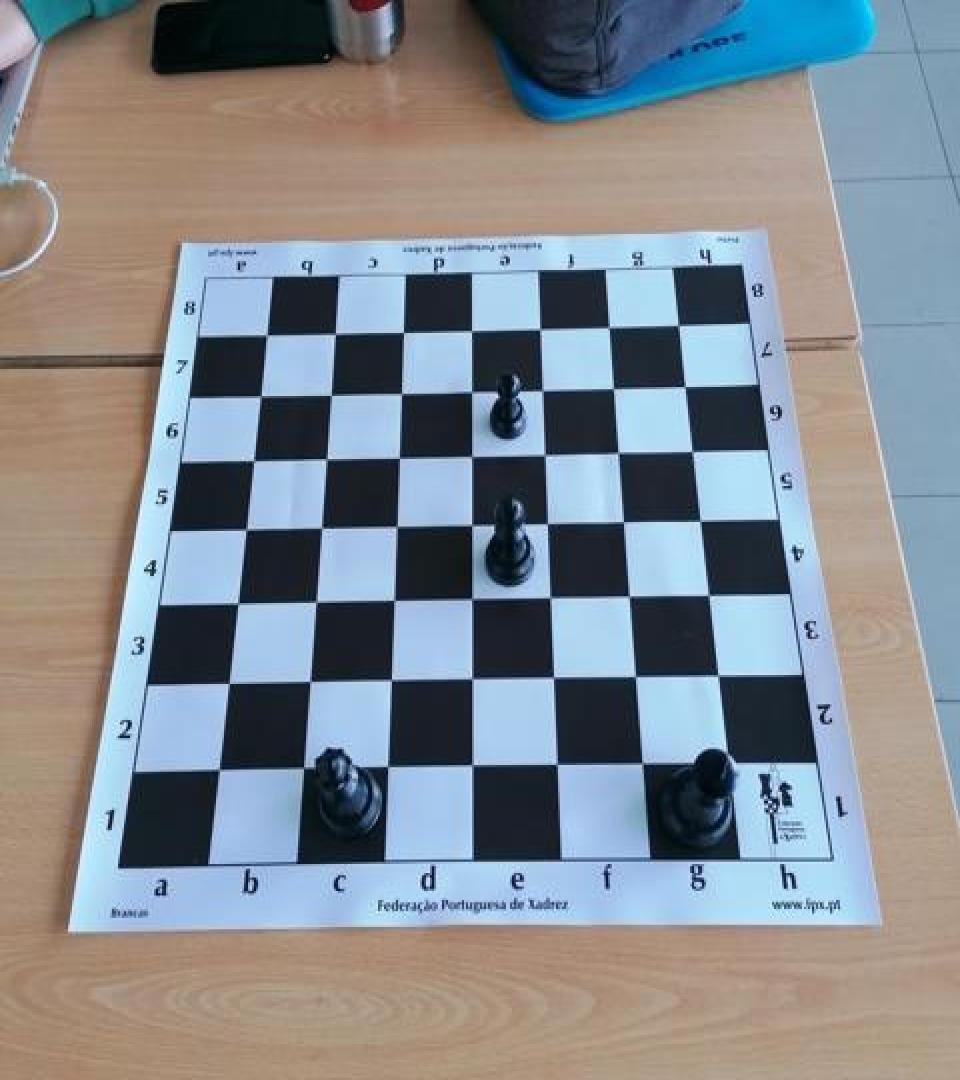xcorner: (253, 323, 283, 357), (246, 384, 276, 418), (231, 518, 261, 552), (204, 758, 234, 792), (321, 320, 351, 354), (316, 381, 346, 415), (311, 446, 341, 480), (306, 516, 336, 550), (300, 590, 330, 624), (294, 670, 324, 704), (288, 757, 318, 791), (389, 318, 419, 352), (386, 379, 416, 413), (384, 444, 414, 478), (381, 514, 411, 548), (378, 588, 408, 622), (375, 669, 405, 703), (372, 756, 402, 790), (457, 316, 487, 350), (457, 378, 487, 412), (457, 442, 487, 476), (457, 513, 487, 547), (457, 587, 487, 621), (457, 668, 487, 702), (456, 755, 486, 789), (526, 314, 556, 348), (528, 376, 558, 410), (531, 441, 561, 475), (533, 510, 563, 544), (536, 586, 566, 620), (539, 666, 569, 700), (542, 754, 572, 788), (595, 312, 625, 346), (610, 508, 640, 542), (615, 584, 645, 618), (621, 665, 651, 699), (627, 752, 657, 786), (672, 371, 702, 405), (679, 438, 709, 472), (687, 507, 717, 541), (695, 582, 725, 616), (239, 448, 269, 481), (223, 592, 253, 625), (214, 672, 244, 705), (600, 374, 630, 407), (605, 439, 635, 472), (665, 311, 695, 344), (704, 664, 734, 697), (714, 752, 744, 785)
